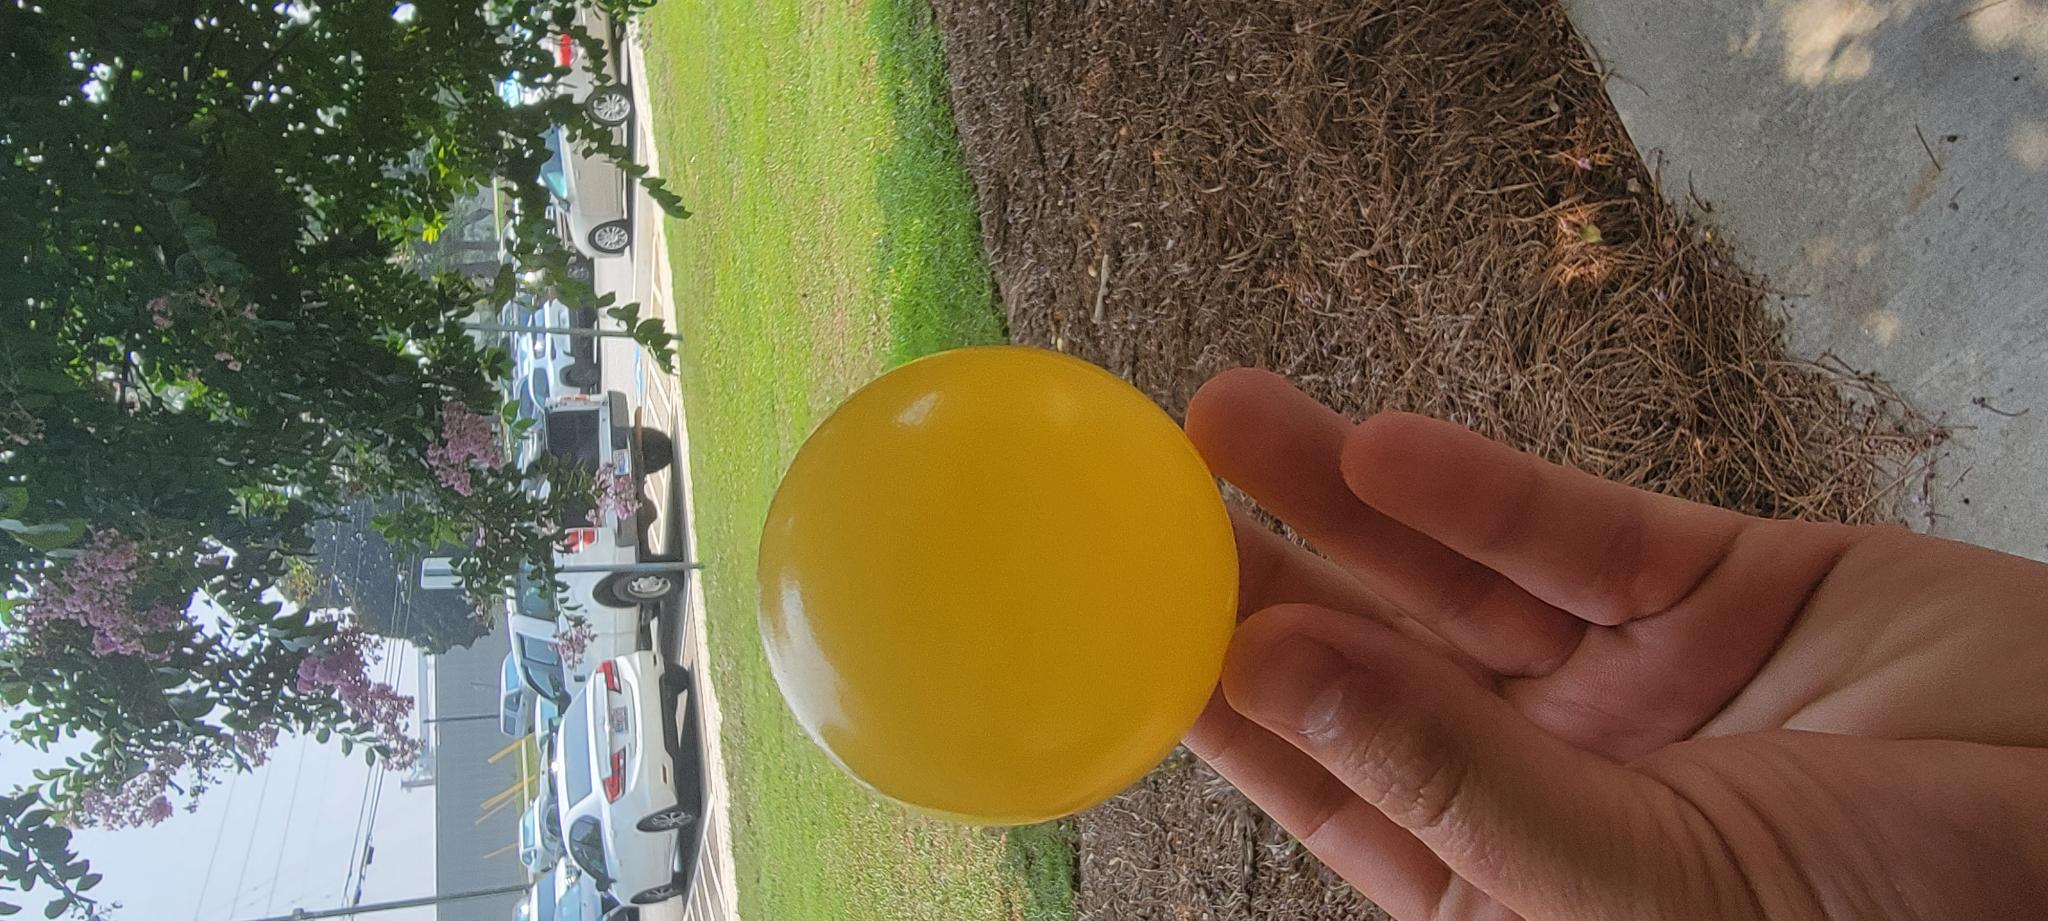Yellow-Ball: (95, 752, 578, 921)
